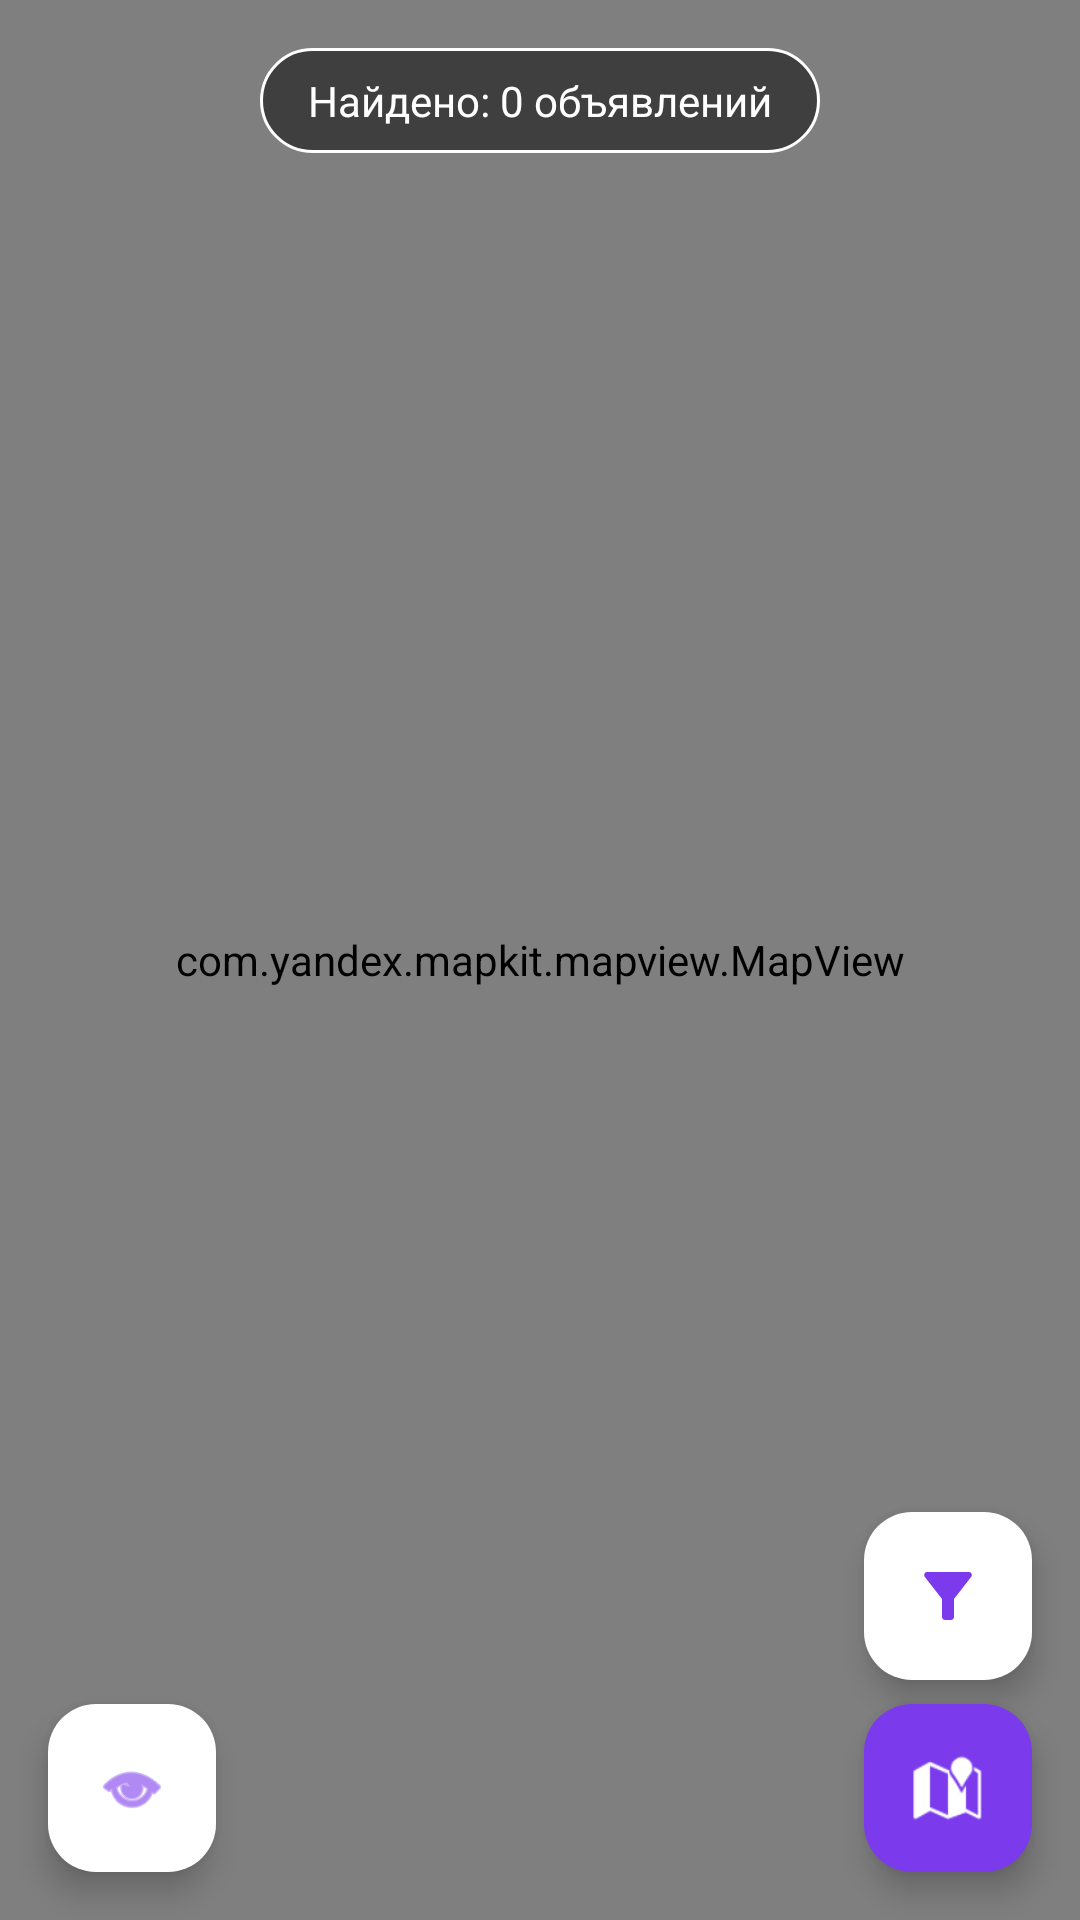

Where icons sit on this 1080 x 1920 app screen, as (x1, y1, x2, y2):
filter: (864, 1512, 1032, 1680)
map: (864, 1704, 1032, 1872)
